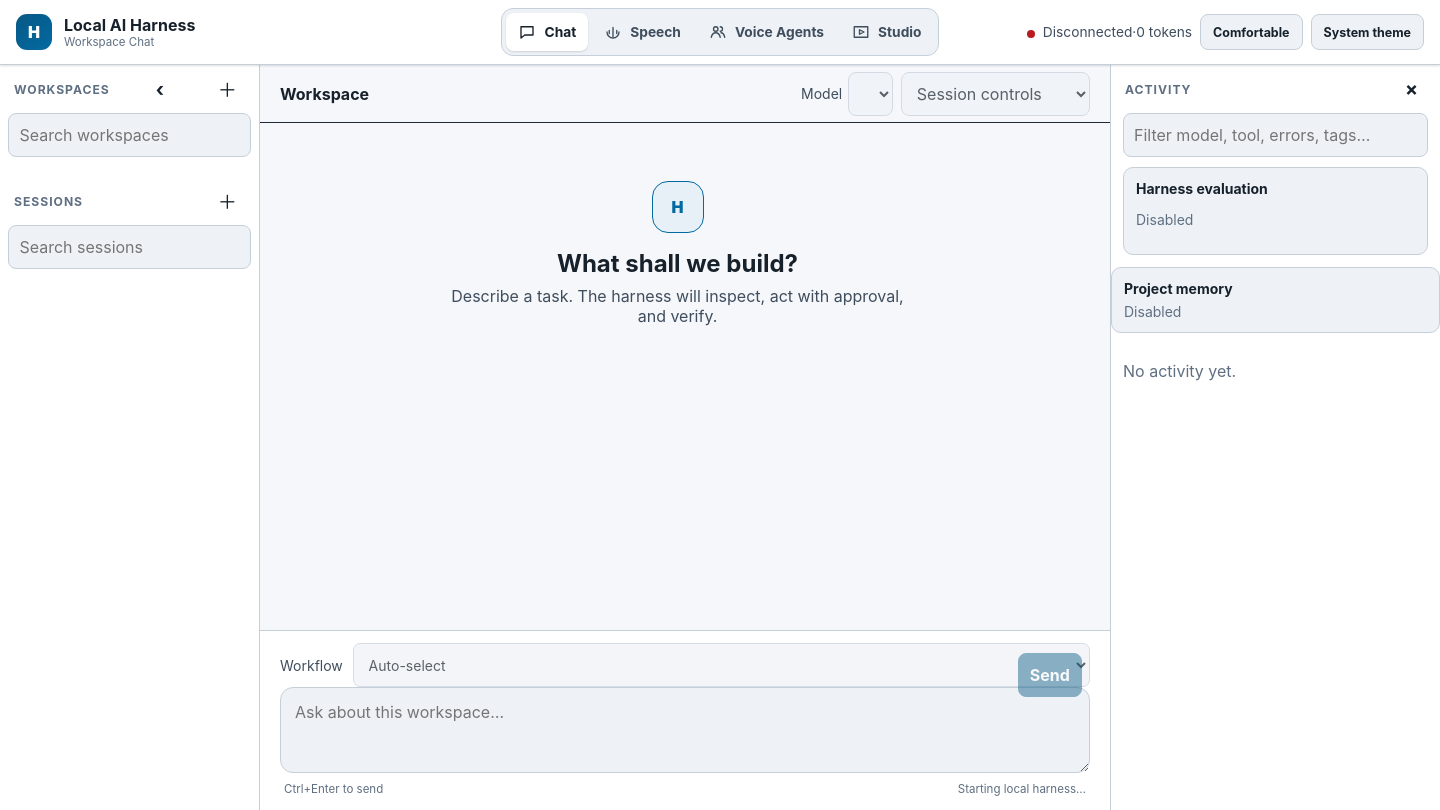
Test case: Harness browser › shows prompt redaction and submission failures
Expected: the heading "What shall we build?" is shown, [557,249,798,278]
Type "token=secret" into the text box named "Prompt". click: (685, 730)
box: [280,687,1090,773]
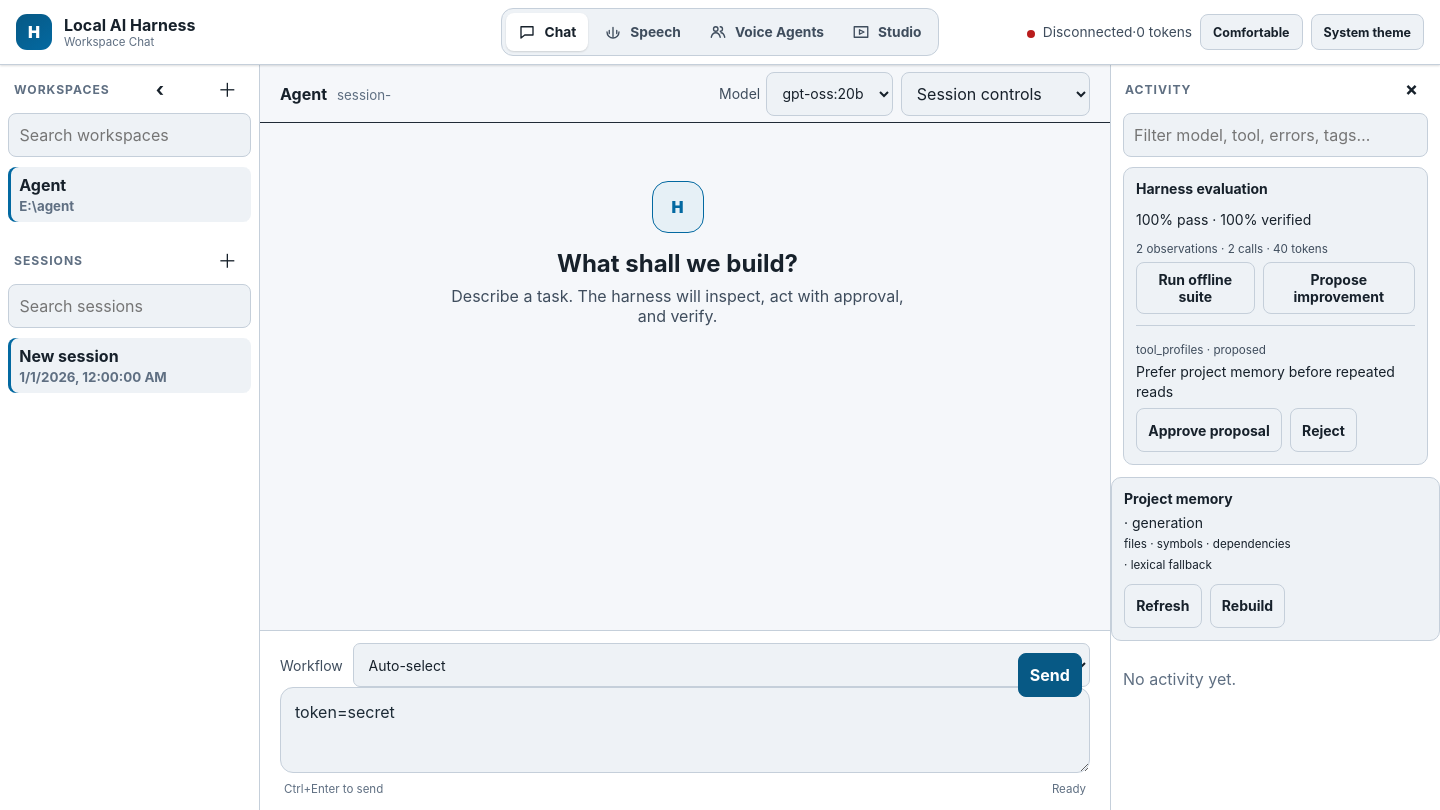
Click the button "Send". click: (1050, 675)
box: [1018,653,1082,697]
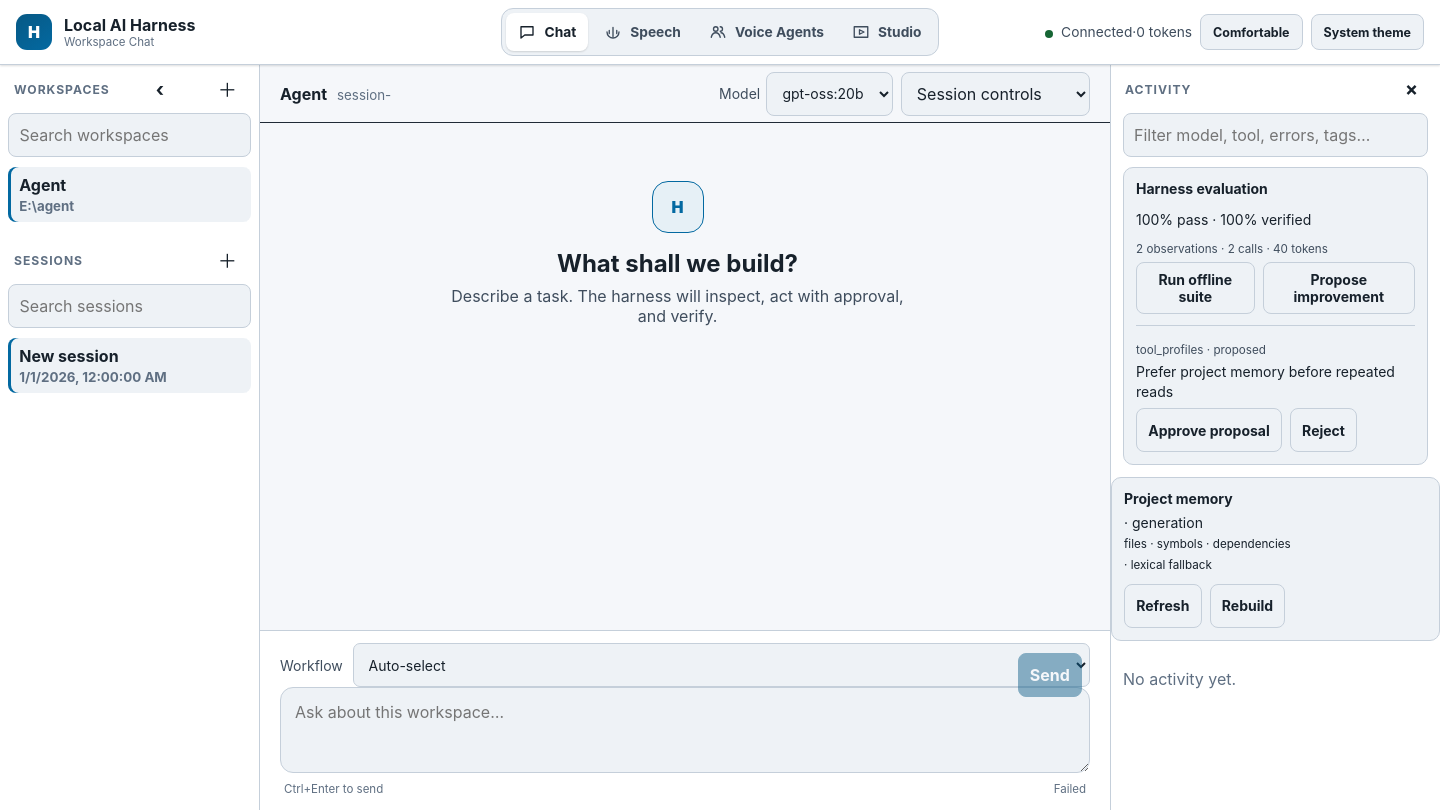
Expected: the text "Sensitive text was redacted before it was sent." is shown, [1054,782,1086,796]
Result: the text box named "Prompt" is enabled
Type "retry" into the text box named "Prompt". click: (685, 730)
box: [280,687,1090,773]
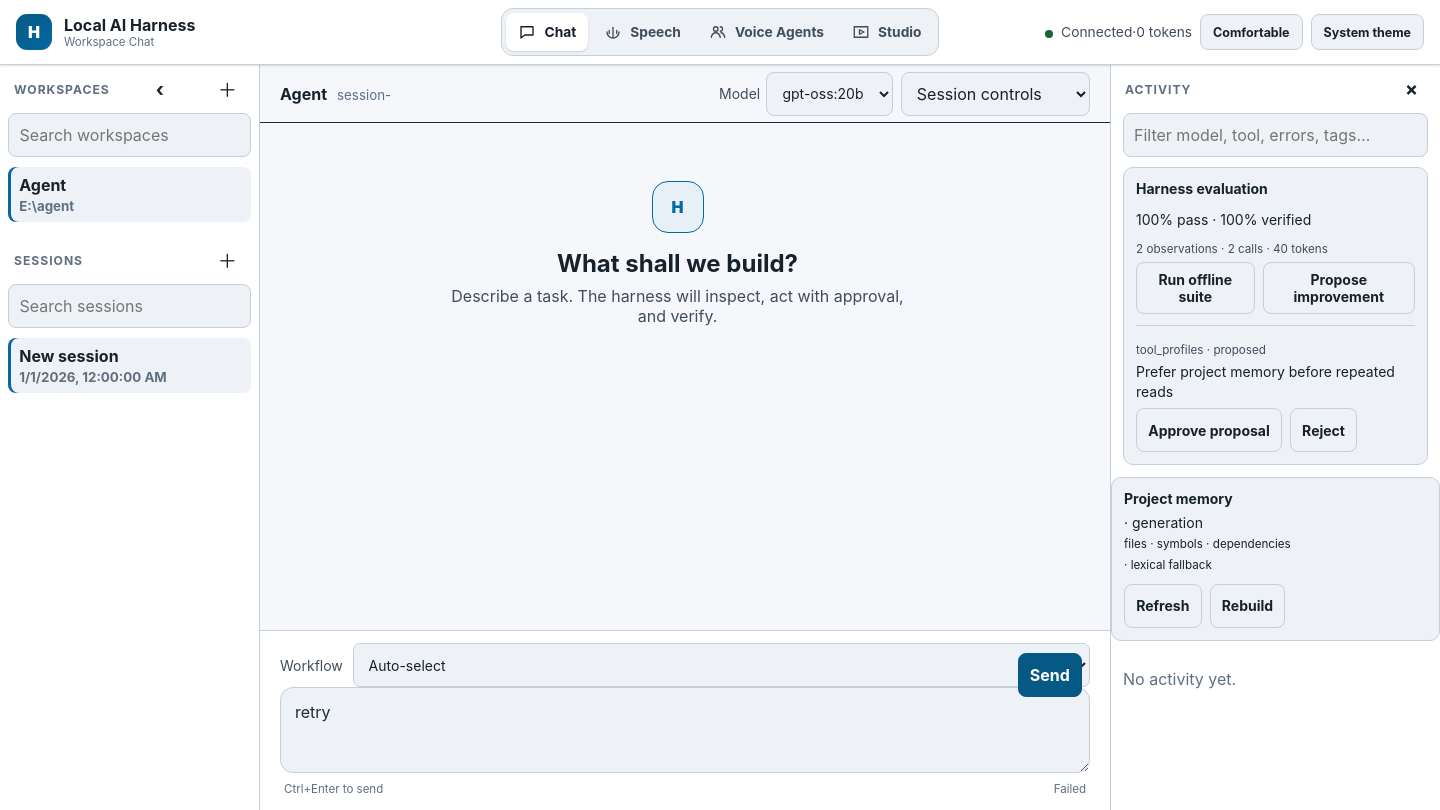
Click the button "Send". click: (1050, 675)
box: [1018,653,1082,697]
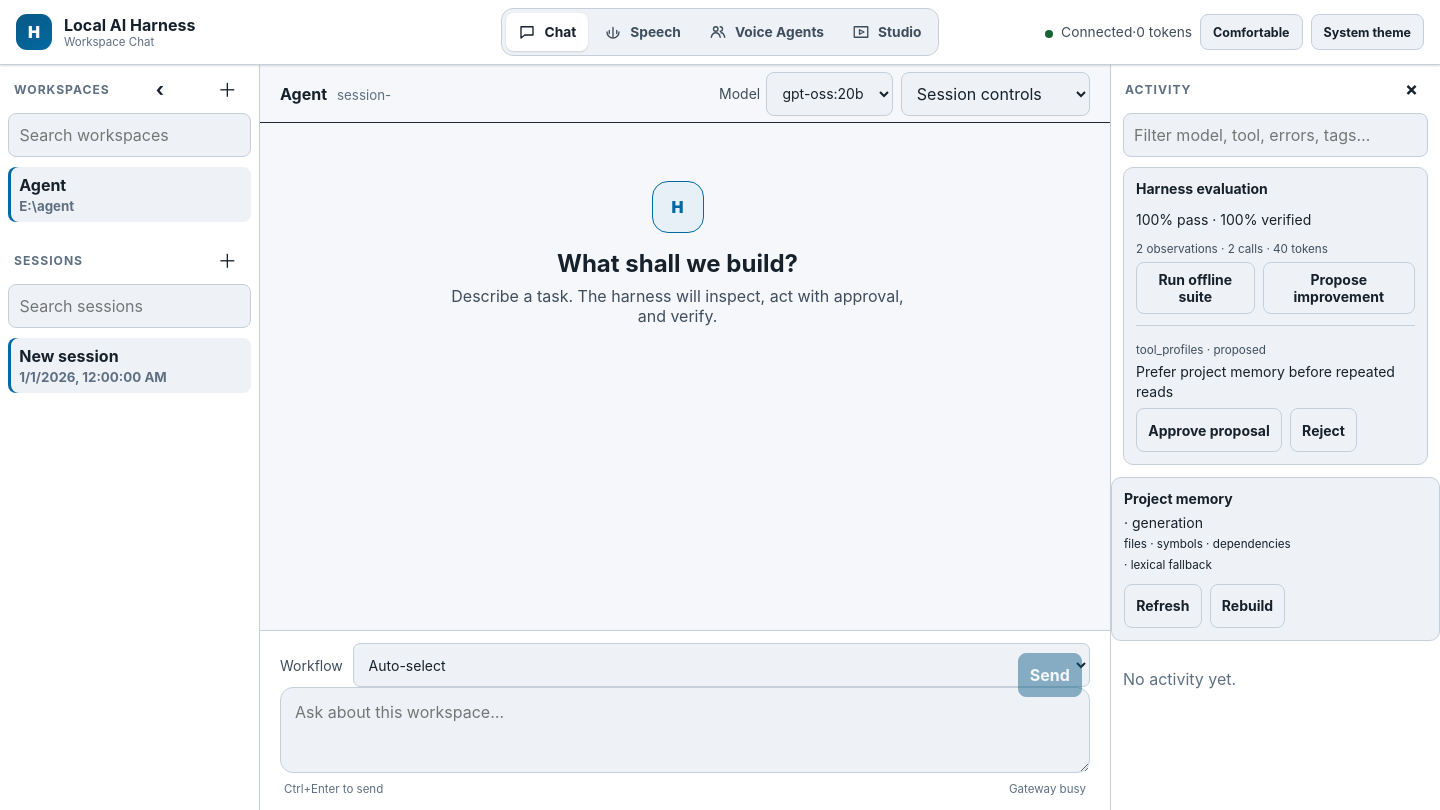
Result: the text "Gateway busy" is shown at [1009,782,1086,796]
